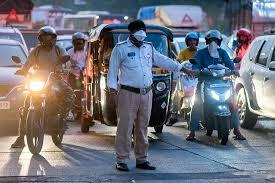helmet: (38, 26, 58, 49), (204, 29, 223, 48), (236, 28, 253, 47), (71, 31, 85, 51), (185, 31, 200, 48)
